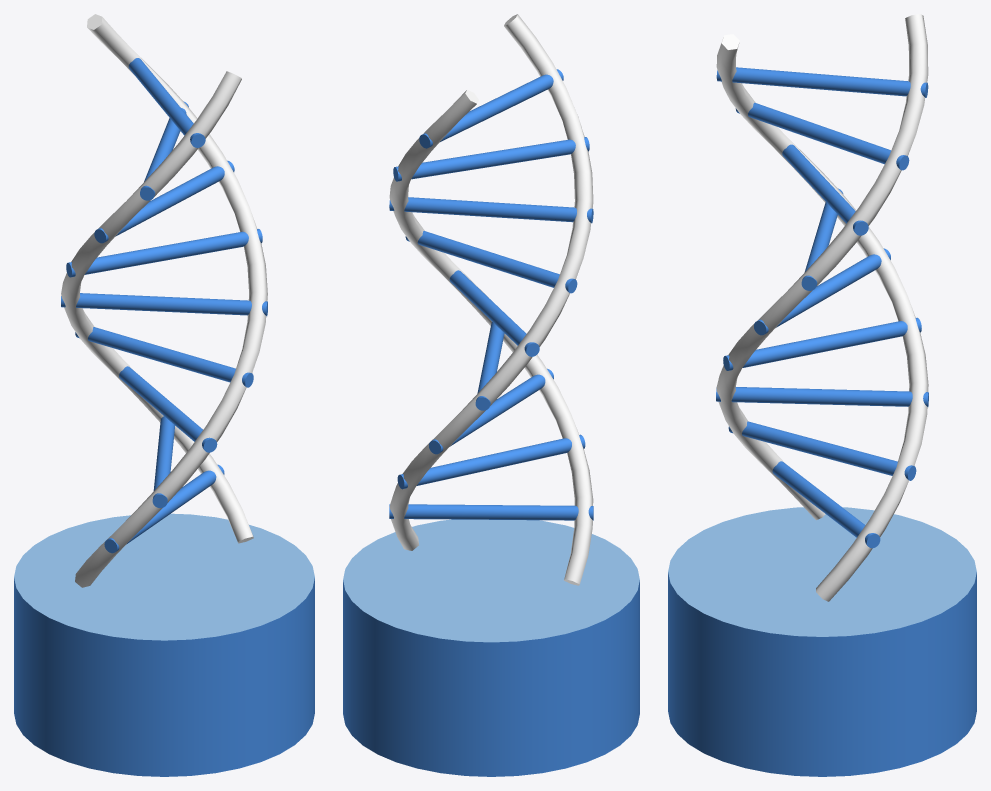
Rendered from DNA.FBX.
3 renders of one model, left to right at view 1: azimuth 30°, elevation 25°; view 2: azimuth 150°, elevation 25°; view 3: azimuth 270°, elevation 25°, orthographic. The views are drawn at different scales.
Parts seen in each view (by area): view 1: Cylinder001, Spring001; view 2: Cylinder001, Spring001; view 3: Cylinder001, Spring001.
Boxes of the visible parts, x1,y1,x2,y2 form: Cylinder001: (14,513,314,776); Spring001: (61,14,267,587); Cylinder001: (343,519,639,776); Spring001: (389,14,593,585); Cylinder001: (668,507,976,776); Spring001: (716,14,928,601).
Bounding box in the file's own units: 800 × 1964 × 800.
